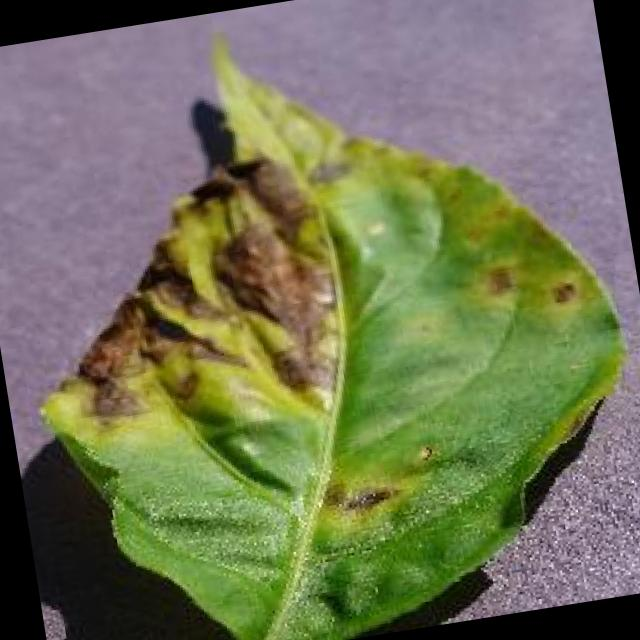Chilli_Bacterial_Spot: (0, 0, 640, 640), (41, 140, 360, 458), (202, 208, 352, 403), (304, 434, 458, 540), (470, 247, 586, 326), (315, 467, 412, 532), (147, 339, 207, 412), (336, 478, 398, 520), (300, 151, 354, 193), (476, 259, 521, 302), (544, 274, 584, 312), (315, 476, 350, 512), (410, 439, 440, 470)
